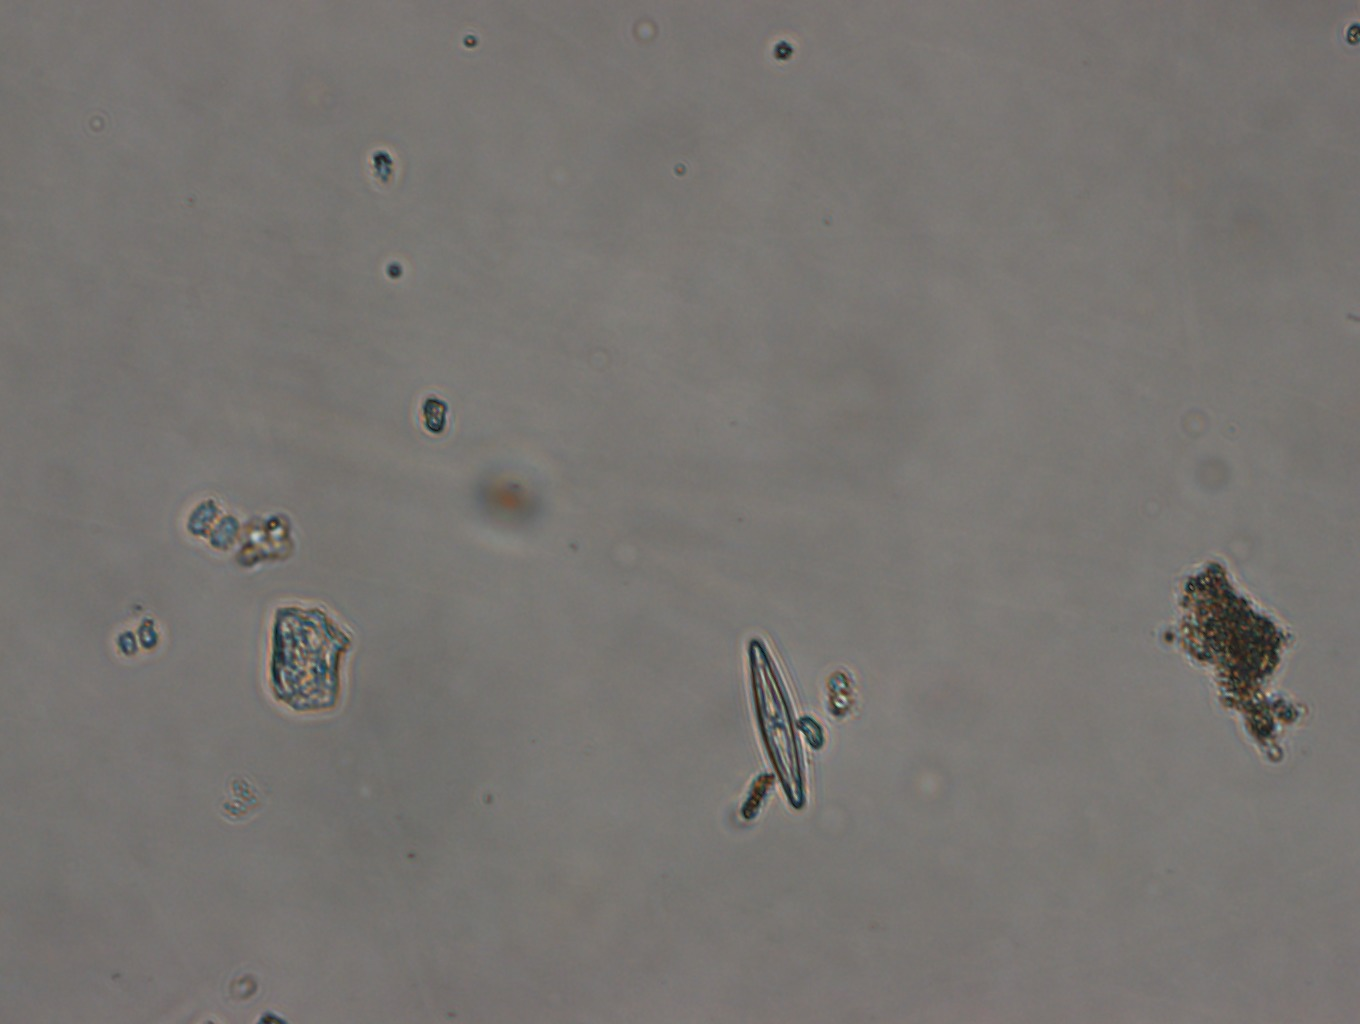dinophysis caudata: (1175, 556, 1303, 772)
navicula: (732, 632, 821, 810)
